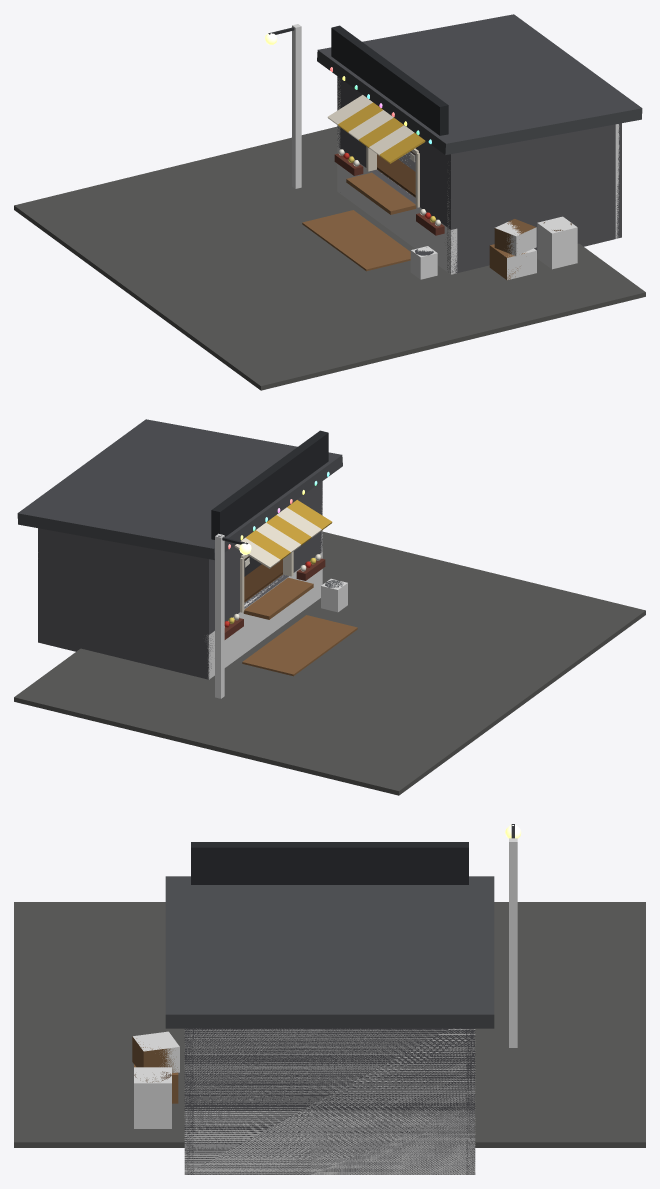
File: booth-2.glb
3 views of the same model, one above another, from view 1: azimuth 30°, elevation 25°; view 2: azimuth 150°, elevation 25°; view 3: azimuth 270°, elevation 25° (orthographic). The views are drawn at different scales.
Parts seen in each view (by area): view 1: 30_#5a5a58_noshadow, 31_#4c4e52, 20_#5a5a5e, 32_#2a2c30_noshadow, 04_#8a6440_noshadow, solid.008, 21_#5a5a5e_r320, 00_#e8e0d0_noshadow_r320, 09_#8a6440_r320, solid.003, 01_#c9a13a_noshadow_r320, solid.004 (+6 smaller); view 2: 30_#5a5a58_noshadow, 31_#4c4e52, 20_#5a5a5e, 32_#2a2c30_noshadow, 04_#8a6440_noshadow, solid.008, 21_#5a5a5e_r320, 00_#e8e0d0_noshadow_r320, solid.004, 01_#c9a13a_noshadow_r320, 09_#8a6440_r320, 25_#5a3e26_noshadow (+2 smaller); view 3: 30_#5a5a58_noshadow, 31_#4c4e52, 20_#5a5a5e, solid.005, 32_#2a2c30_noshadow, solid.003, solid.004, solid.002, 10_#7a5a3a_r110.
Boxes of the visible parts, x1,y1,x2,y2 form: 30_#5a5a58_noshadow: (14,126,645,390); 31_#4c4e52: (317,14,642,154); 20_#5a5a5e: (337,76,621,273); 32_#2a2c30_noshadow: (331,25,448,135); 04_#8a6440_noshadow: (302,210,410,271); solid.008: (337,147,457,274); 21_#5a5a5e_r320: (341,96,457,229); 00_#e8e0d0_noshadow_r320: (327,95,419,207); 09_#8a6440_r320: (346,172,525,280); solid.003: (537,216,577,269); 01_#c9a13a_noshadow_r320: (338,102,425,163); solid.004: (292,24,301,188); 30_#5a5a58_noshadow: (14,531,645,795); 31_#4c4e52: (17,419,342,559); 20_#5a5a5e: (38,481,322,679); 32_#2a2c30_noshadow: (211,430,328,539); 04_#8a6440_noshadow: (242,615,357,676); solid.008: (205,552,322,679); 21_#5a5a5e_r320: (202,501,322,634); 00_#e8e0d0_noshadow_r320: (234,507,321,612); solid.004: (215,533,224,698); 01_#c9a13a_noshadow_r320: (245,500,332,560); 09_#8a6440_r320: (243,577,313,619); 25_#5a3e26_noshadow: (244,559,282,601); 30_#5a5a58_noshadow: (14,902,645,1147); 31_#4c4e52: (165,876,494,1028); 20_#5a5a5e: (184,1028,475,1174); solid.005: (184,1028,475,1174); 32_#2a2c30_noshadow: (191,842,468,884); solid.003: (134,1067,171,1128); solid.004: (509,838,517,1047); solid.002: (133,1031,179,1072); 10_#7a5a3a_r110: (132,1036,177,1073).
Bounding box in the file's own units: 10.3 × 3.85 × 10.
